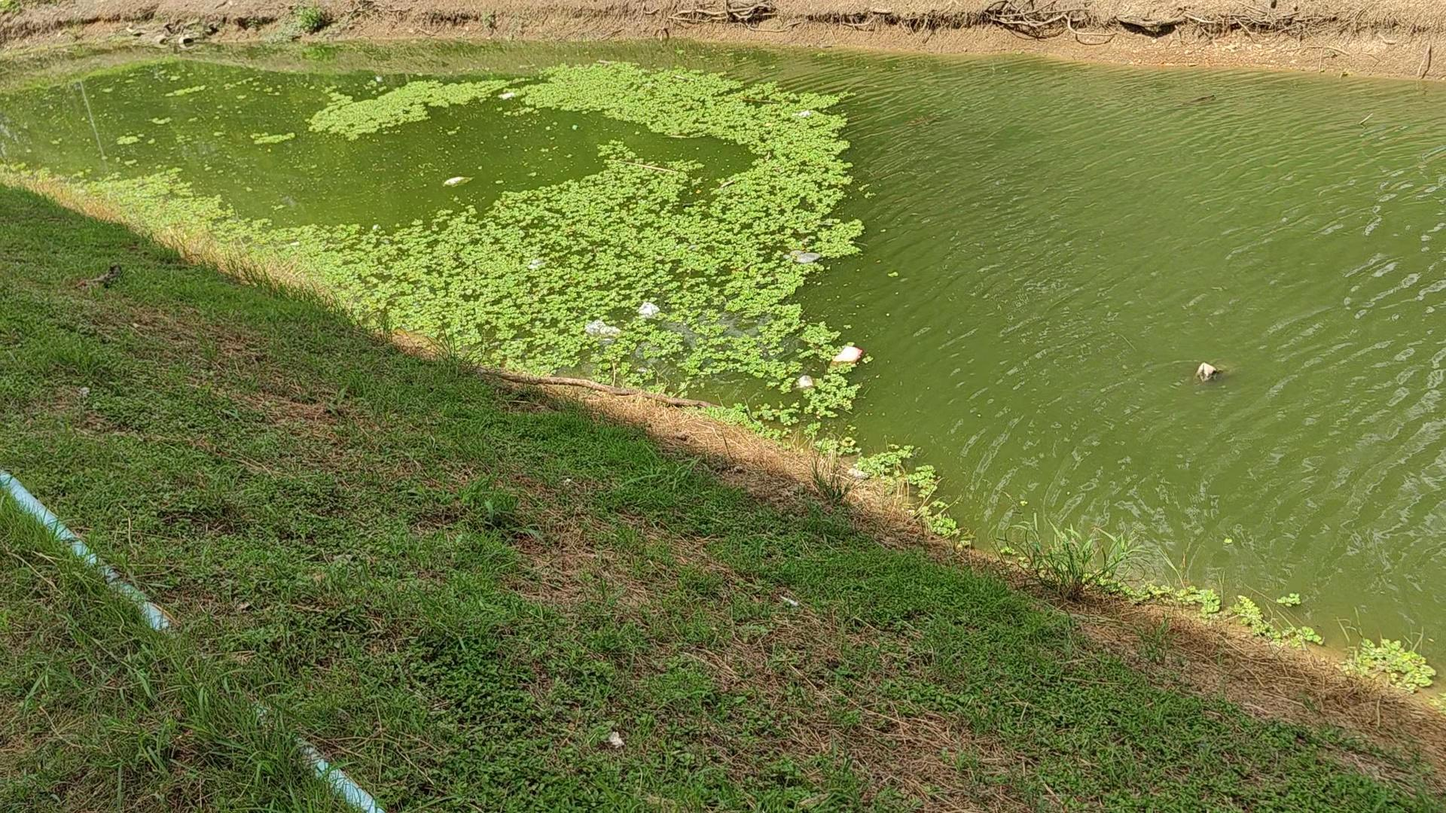trash: (585, 319, 621, 337), (833, 345, 864, 364), (639, 302, 660, 318), (795, 251, 821, 263), (444, 176, 471, 185), (797, 375, 814, 388), (529, 258, 544, 269), (795, 110, 814, 117), (500, 92, 515, 99)
